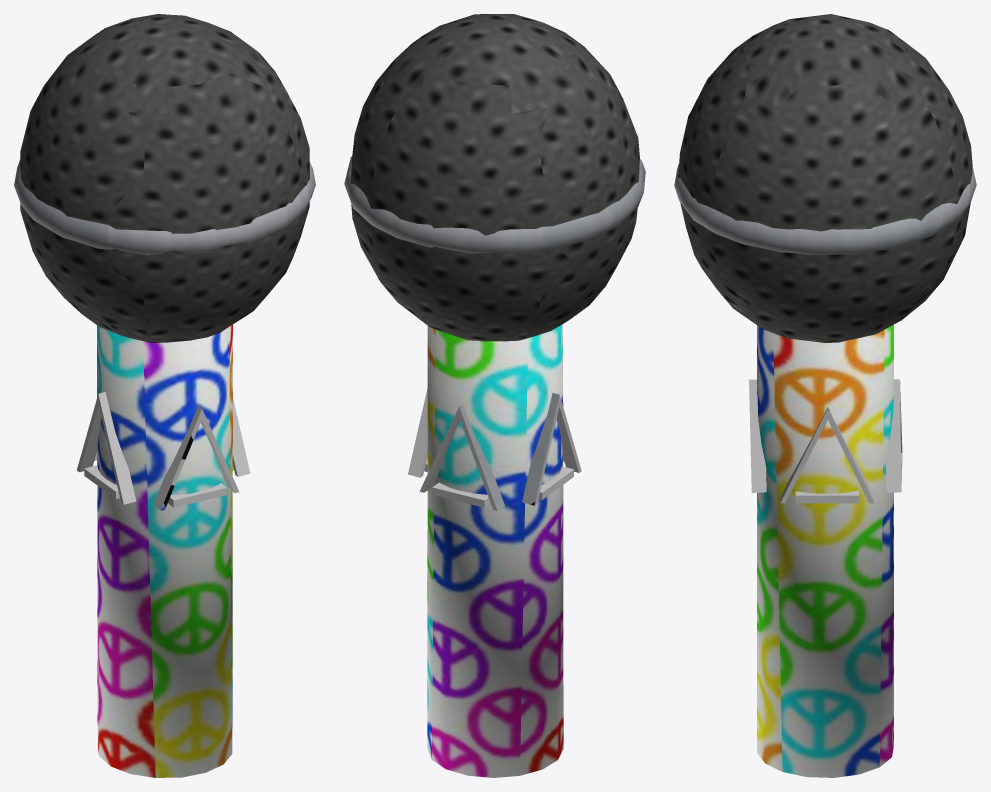
File: mic3.dae
3 views of the same model, side by side, from view 1: azimuth 30°, elevation 25°; view 2: azimuth 150°, elevation 25°; view 3: azimuth 270°, elevation 25° (orthographic).
Visible parts, largest first — view 1: Torus; view 2: Torus; view 3: Torus.
Part boxes in pixels (x1,y1,x2,y2): Torus: [14, 14, 315, 777]; Torus: [344, 14, 645, 777]; Torus: [674, 14, 976, 777].
Size of the model in its own units: 0.1455 by 0.1459 by 0.3848.
1 material, 1 textured.
